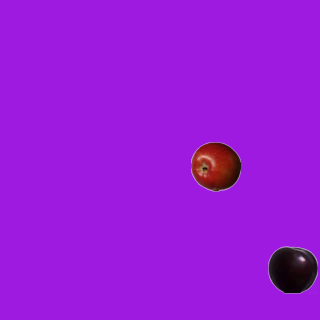Apple Braeburn: (190, 141, 240, 191)
Cherry Wax Black: (267, 244, 317, 294)
